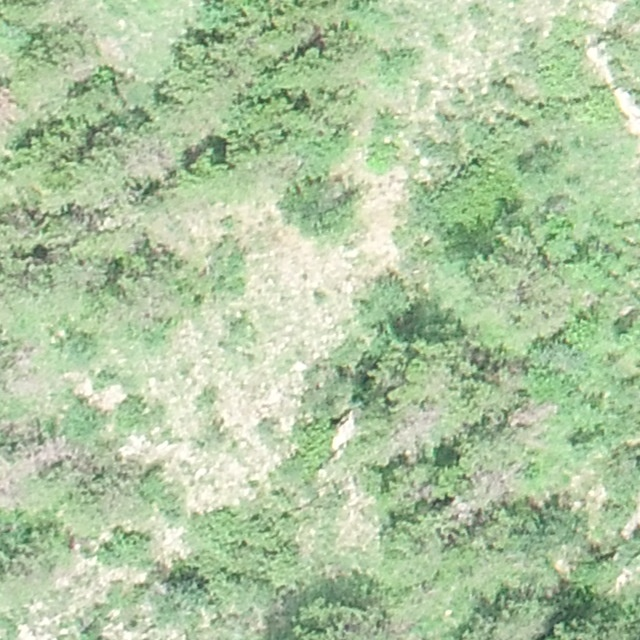unhealthy: (33, 437, 76, 463), (449, 501, 475, 525)
